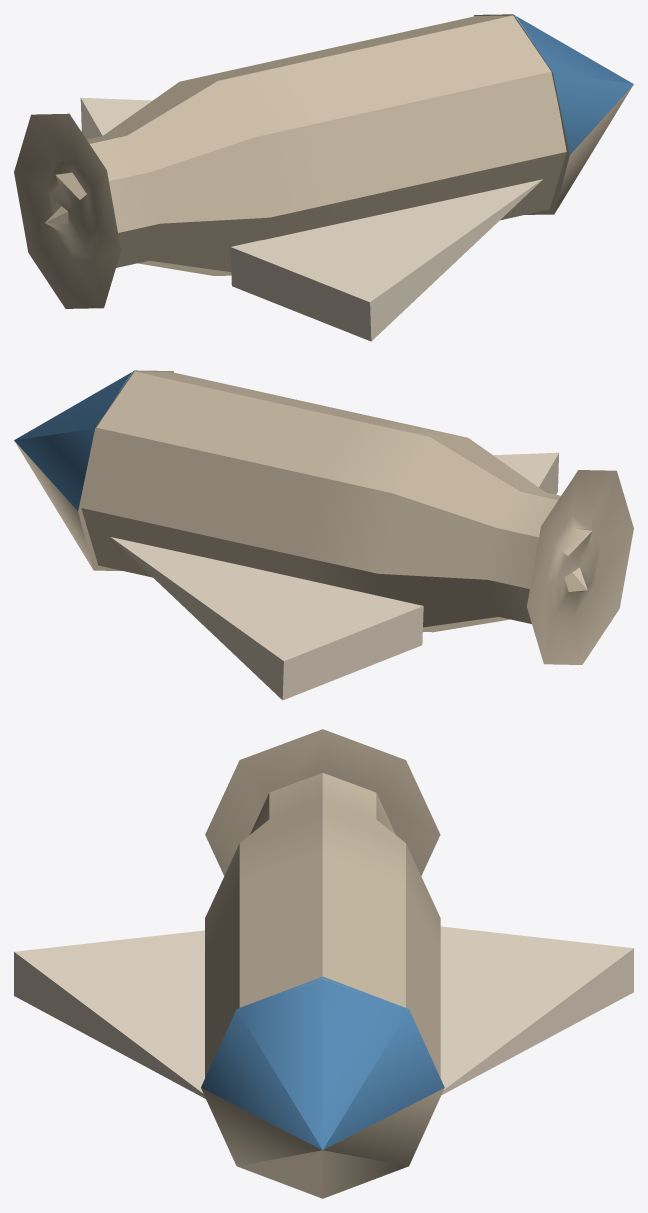
The model's file is SpaceShipNew.fbx.
The picture shows the model from 3 angles, top to bottom: view 1: azimuth 30°, elevation 25°; view 2: azimuth 150°, elevation 25°; view 3: azimuth 270°, elevation 25°; orthographic projection. The views are drawn at different scales.
Parts seen in each view (by area): view 1: Oil_Tank, Pyramid, Cone, Pyramid_1; view 2: Oil_Tank, Pyramid_1, Cone, Pyramid; view 3: Oil_Tank, Cone, Pyramid_1, Pyramid.
Boxes of the visible parts, x1,y1,x2,y2 form: Oil_Tank: [14, 15, 566, 308]; Pyramid: [230, 179, 542, 341]; Cone: [474, 14, 633, 214]; Pyramid_1: [80, 97, 152, 139]; Oil_Tank: [81, 371, 633, 664]; Pyramid_1: [110, 537, 423, 700]; Cone: [14, 370, 173, 570]; Pyramid: [493, 452, 558, 494]; Oil_Tank: [205, 729, 440, 1077]; Cone: [201, 976, 444, 1198]; Pyramid_1: [440, 926, 633, 1095]; Pyramid: [14, 930, 205, 1098].
Bounding box in the file's own units: 940 × 325 × 791.
